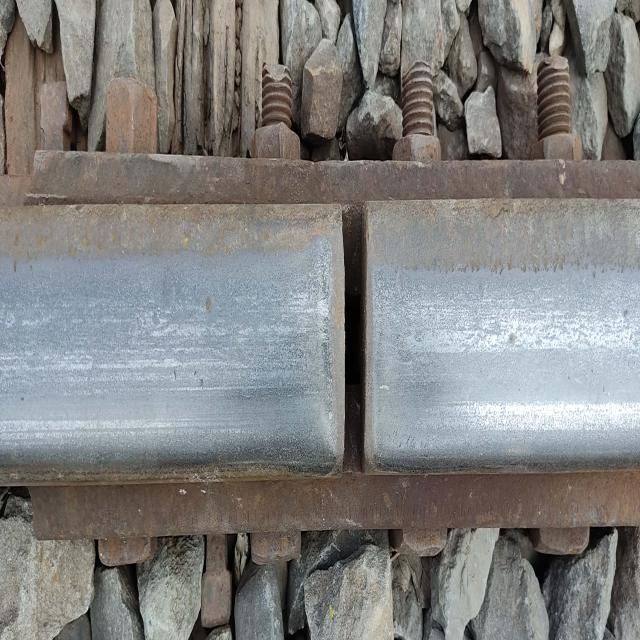Good Joint: (0, 59, 640, 547)
